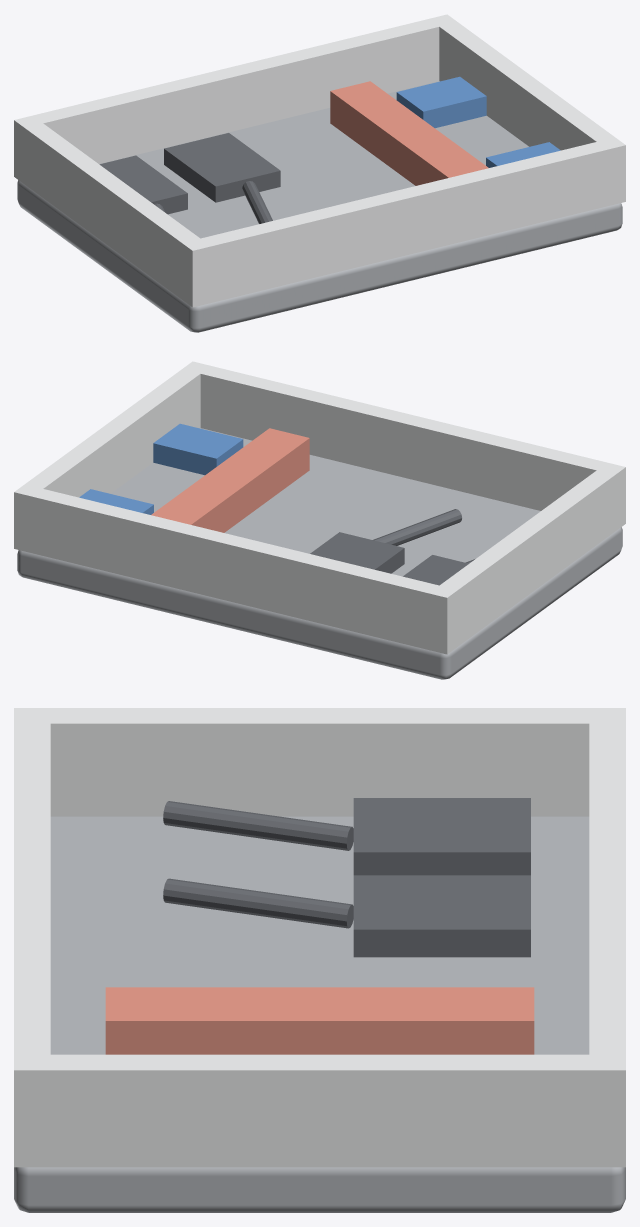
File: xray-sensor-tray.glb
3 views of the same model, one above another, from view 1: azimuth 30°, elevation 25°; view 2: azimuth 150°, elevation 25°; view 3: azimuth 270°, elevation 25° (orthographic). The views are drawn at different scales.
Parts seen in each view (by area): view 1: xray-sensor-tray; view 2: xray-sensor-tray; view 3: xray-sensor-tray.
Boxes of the visible parts, left/top/right/bottom form: xray-sensor-tray: left=14, top=14, right=625, bottom=332; xray-sensor-tray: left=14, top=361, right=625, bottom=679; xray-sensor-tray: left=14, top=708, right=625, bottom=1212.
Bounding box in the file's own units: 0.28 × 0.0535 × 0.2.
